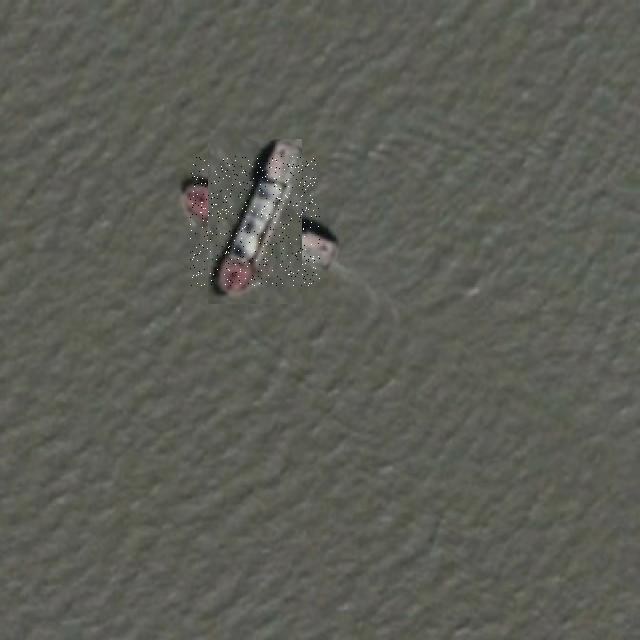boat: (190, 156, 320, 286)
